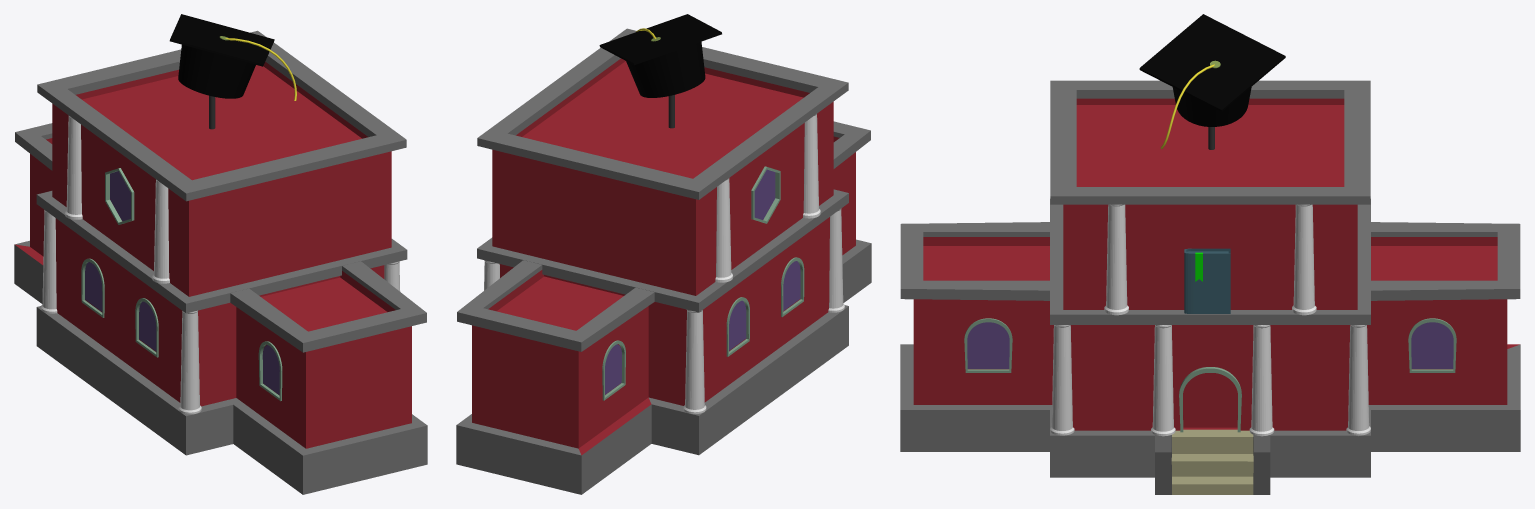
3 renders of one model, left to right at view 1: azimuth 30°, elevation 25°; view 2: azimuth 150°, elevation 25°; view 3: azimuth 270°, elevation 25°, orthographic. The views are drawn at different scales.
Visible parts, largest first — view 1: Cube, Cylinder.002, Cylinder.005, Cylinder.006, Cylinder.007, Cube.005, Cylinder.004, Cube.004; view 2: Cube, Cylinder.002, Cylinder.005, Cylinder.007, Cylinder.006, Cube.005, Cylinder.004, Cube.004; view 3: Cube, Cylinder.007, Cube.002, Cylinder.005, Cylinder.002, Cube.006, Cylinder, Cylinder.001, Cylinder.006, Cube.001, Cube.003.
Part boxes in pixels (x1,y1,x2,y2): Cube: (14,30,427,494); Cylinder.002: (41,210,400,414); Cylinder.005: (65,116,169,283); Cylinder.006: (178,44,255,98); Cylinder.007: (169,14,274,66); Cube.005: (81,258,158,357); Cylinder.004: (105,168,134,224); Cube.004: (258,341,282,401); Cube: (456,28,871,494); Cylinder.002: (484,208,844,413); Cylinder.005: (715,114,820,282); Cylinder.007: (599,14,721,65); Cylinder.006: (626,41,705,97); Cube.005: (726,257,804,356); Cylinder.004: (751,166,780,223); Cube.004: (602,340,625,400); Cube: (900,80,1520,477); Cylinder.007: (1139,14,1285,111); Cube.002: (1155,429,1270,494); Cylinder.005: (1104,204,1316,315); Cylinder.002: (1050,325,1370,435); Cube.006: (1184,248,1230,313); Cylinder: (1151,325,1175,436); Cylinder.001: (1249,325,1274,436); Cylinder.006: (1172,87,1251,126); Cube.001: (964,318,1456,372); Cube.003: (1179,367,1241,432).
Size of the model in its own units: 0.7809 by 1.03 by 1.54.
